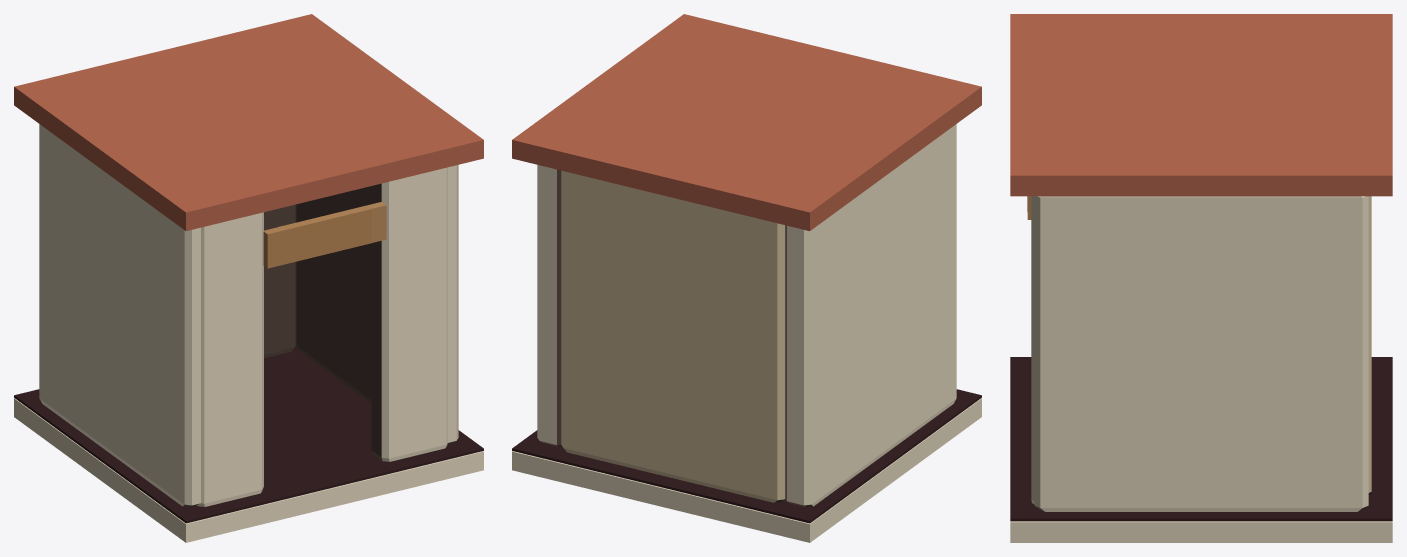
Rendered from house.glb.
The picture shows the model from 3 angles, left to right: view 1: azimuth 30°, elevation 25°; view 2: azimuth 150°, elevation 25°; view 3: azimuth 270°, elevation 25°; orthographic projection. The views are drawn at different scales.
Visible parts, largest first — view 1: PlasterWall, DoorSide2, EntranceCarpet, DoorSide, Cap2, Cap4, Cap, PlasterWall2, Cap3, Floor, DoorLintel, BackWall; view 2: BackWall, PlasterWall, Cap, Cap3, Cap2, Cap4, Floor, PlasterWall2, EntranceCarpet; view 3: PlasterWall2, Cap3, Cap4, Cap, Cap2, EntranceCarpet, Floor, DoorSide2, BackWall.
Boxes of the visible parts, x1=… form: PlasterWall: x1=39, y1=124, x2=200, y2=507; DoorSide2: x1=371, y1=167, x2=447, y2=461; EntranceCarpet: x1=14, y1=347, x2=483, y2=523; DoorSide: x1=197, y1=212, x2=263, y2=506; Cap2: x1=100, y1=113, x2=334, y2=230; Cap4: x1=249, y1=77, x2=483, y2=194; Cap: x1=14, y1=50, x2=248, y2=167; PlasterWall2: x1=295, y1=165, x2=458, y2=444; Cap3: x1=163, y1=14, x2=397, y2=112; Floor: x1=14, y1=398, x2=483, y2=542; DoorLintel: x1=263, y1=202, x2=386, y2=268; BackWall: x1=264, y1=204, x2=296, y2=358; BackWall: x1=561, y1=170, x2=785, y2=502; PlasterWall: x1=785, y1=124, x2=956, y2=507; Cap: x1=661, y1=113, x2=895, y2=230; Cap3: x1=512, y1=77, x2=746, y2=194; Cap2: x1=747, y1=50, x2=981, y2=167; Cap4: x1=598, y1=14, x2=832, y2=112; Floor: x1=512, y1=398, x2=981, y2=542; PlasterWall2: x1=537, y1=165, x2=562, y2=446; EntranceCarpet: x1=512, y1=389, x2=981, y2=523; PlasterWall2: x1=1034, y1=196, x2=1368, y2=511; Cap3: x1=1201, y1=94, x2=1392, y2=196; Cap4: x1=1010, y1=94, x2=1201, y2=196; Cap: x1=1201, y1=14, x2=1392, y2=94; Cap2: x1=1010, y1=14, x2=1201, y2=94; EntranceCarpet: x1=1010, y1=357, x2=1392, y2=521; Floor: x1=1010, y1=521, x2=1392, y2=542; DoorSide2: x1=1031, y1=196, x2=1034, y2=503; BackWall: x1=1368, y1=196, x2=1371, y2=494.
Bounding box in the file's own units: 2 × 2.12 × 2.
